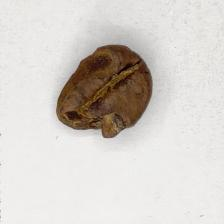NG: (56, 51, 130, 138)
